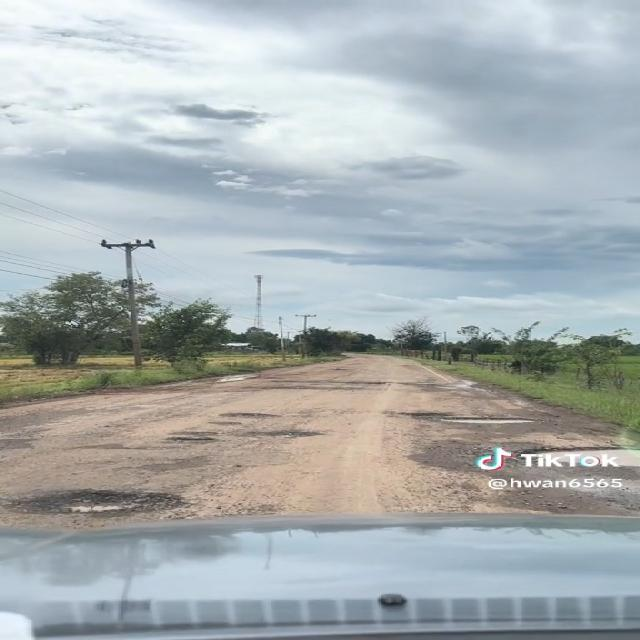Poth-hole: (59, 450, 289, 487)
